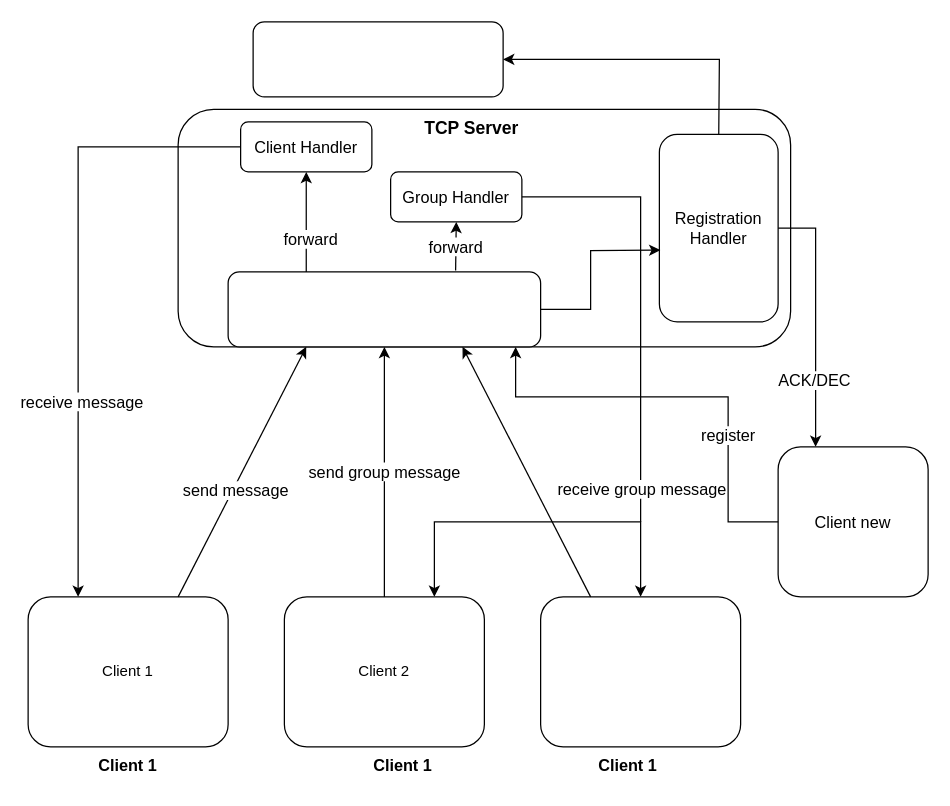
Some shapes in this 950 by 806 pixel diagram are drawn without their labels. The box of each missing label's shape, as (x1, y1, x2, y2) in pixels:
Client n: (539, 596, 741, 747)
DB (but actually no DB): (252, 21, 503, 97)
Dispatcher: (227, 271, 541, 347)
